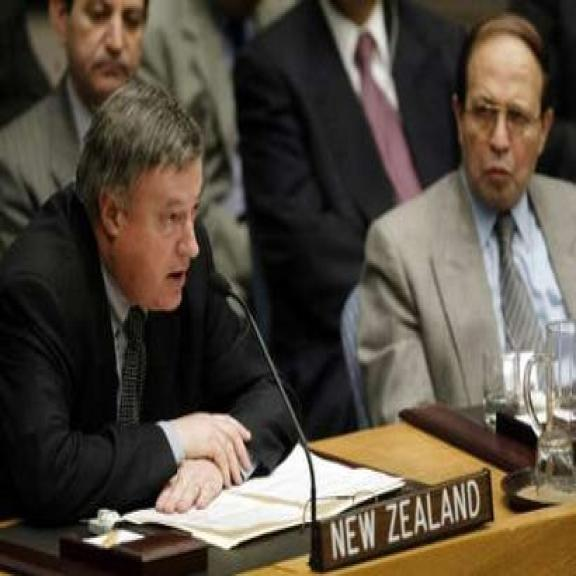face: (99, 148, 207, 313), (452, 37, 552, 214), (48, 2, 149, 101)
